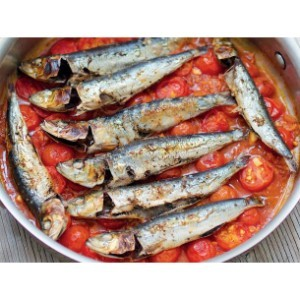sardine_brain food: (41, 101, 257, 213)
